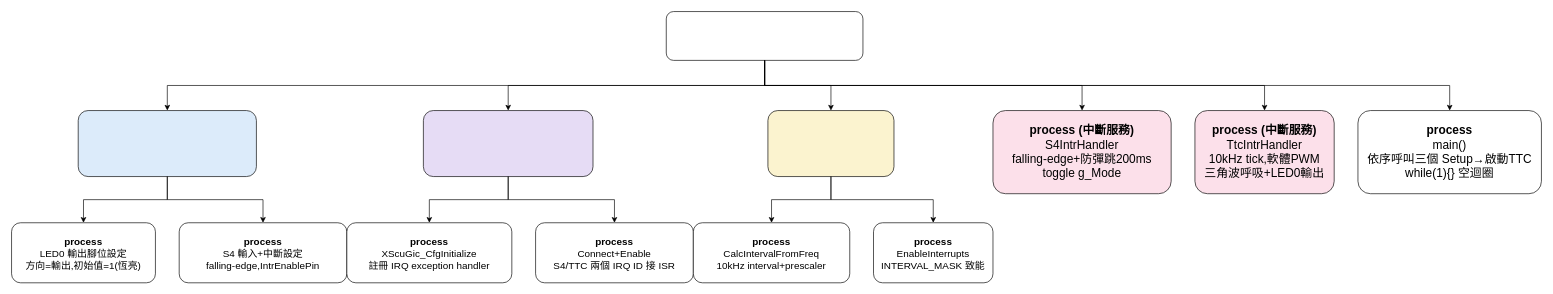
This 1553x294 diagram has some shape labels left out. Each missing label, with the box of its shape:
main.c HW2 standalone SDK 應用程式: (666, 11, 863, 60)
子模組 SetupGpio() S4 輸入 + LED0 輸出初始化: (78, 110, 256, 177)
子模組 SetupInterruptSystem() GIC 中斷控制器初始化: (423, 110, 593, 177)
子模組 SetupTtc() TTC0 計時器初始化: (767, 110, 894, 177)
